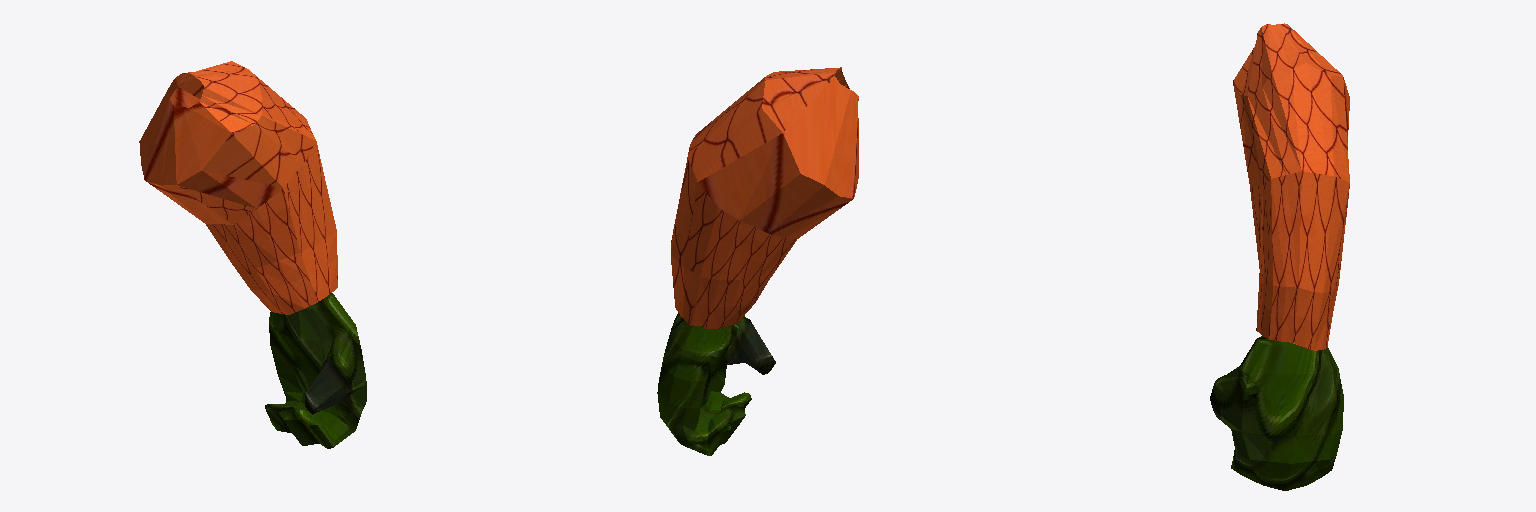
3 views of the same model, side by side, from view 1: azimuth 30°, elevation 25°; view 2: azimuth 150°, elevation 25°; view 3: azimuth 270°, elevation 25° (orthographic).
Size of the model in its own units: 1.33 by 2.56 by 0.8161.
Materials: 2 (2 with a texture image).